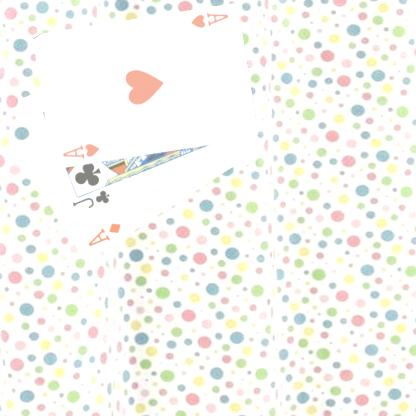AD: (84, 220, 122, 248)
AH: (59, 141, 101, 161), (188, 10, 230, 30)
JC: (69, 187, 111, 210)
